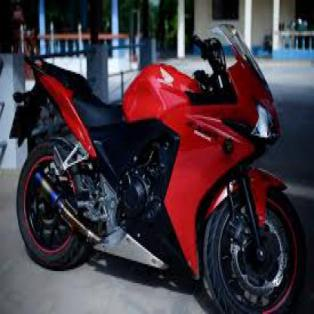Motocicleta: (11, 11, 311, 312)
